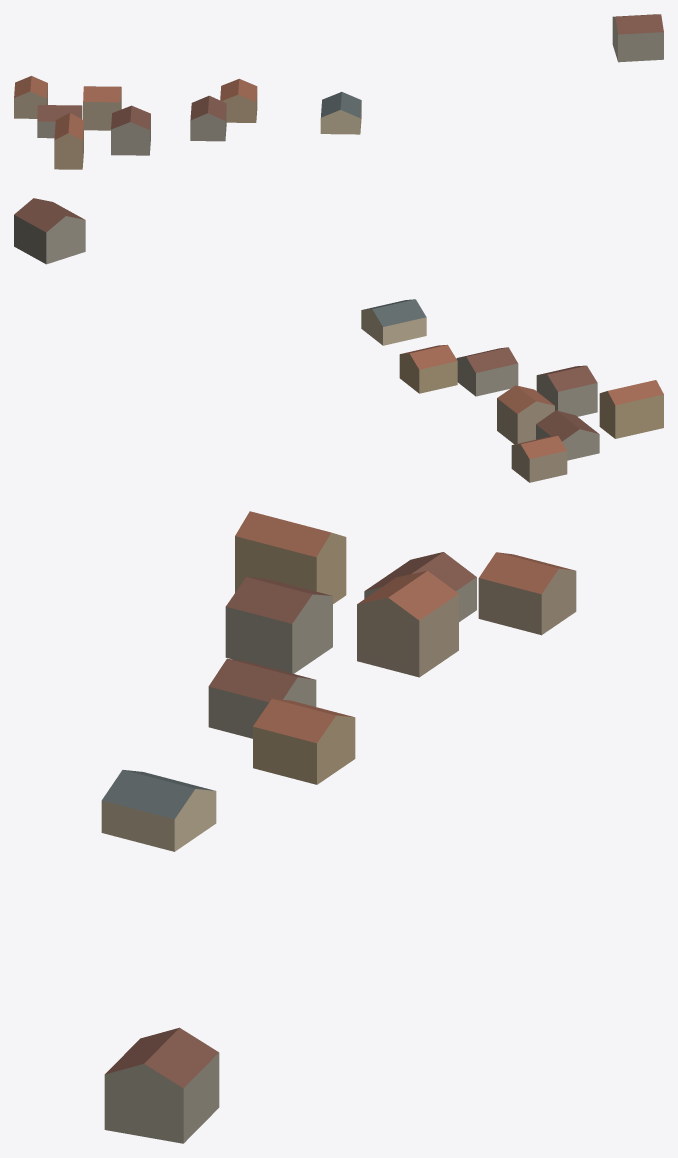
3 renders of one model, top to bottom at view 1: azimuth 30°, elevation 25°; view 2: azimuth 150°, elevation 25°; view 3: azimuth 270°, elevation 25°, orthographic. The views are drawn at different scales.
Visible parts, largest first — view 1: C_0_3; view 2: C_0_3; view 3: C_0_3.
Part boxes in pixels (x1=…): C_0_3: x1=14, y1=14, x2=663, y2=169; C_0_3: x1=14, y1=198, x2=663, y2=482; C_0_3: x1=101, y1=511, x2=576, y2=1143.
Bounding box in the file's own units: 181 × 10.83 × 63.75.
